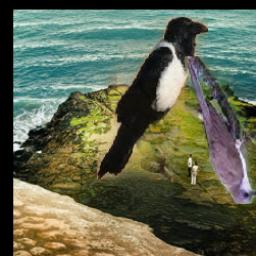Crow: (98, 18, 209, 181)
Cuckoo: (185, 57, 256, 205)
